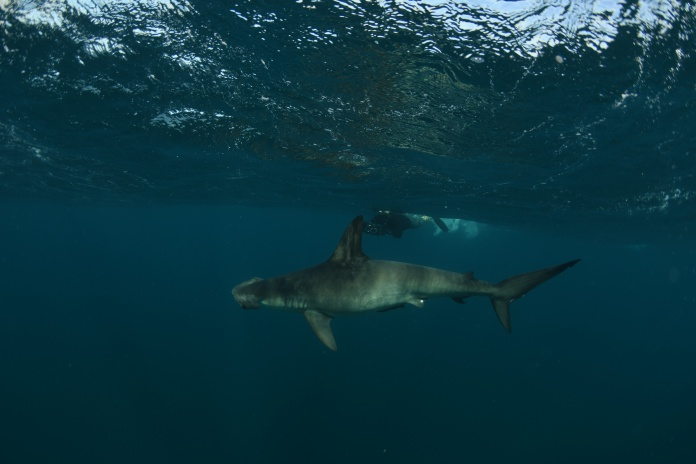Hammer: (155, 105, 516, 346)
